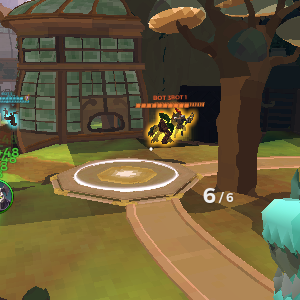model: (147, 109, 173, 149), (168, 110, 191, 136)
